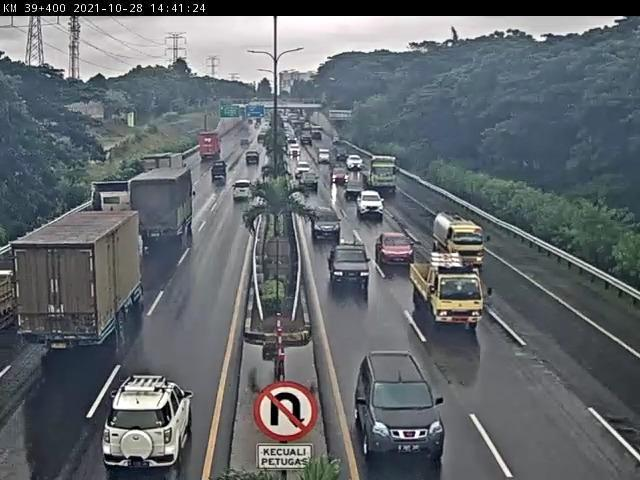car: (354, 351, 446, 464), (102, 375, 196, 471), (328, 244, 371, 295), (377, 233, 417, 270), (311, 206, 343, 240), (357, 191, 386, 220), (232, 181, 256, 202)
truck: (13, 208, 145, 350), (411, 253, 487, 329), (129, 168, 195, 243), (432, 211, 487, 273), (85, 179, 138, 232), (144, 153, 187, 186)
